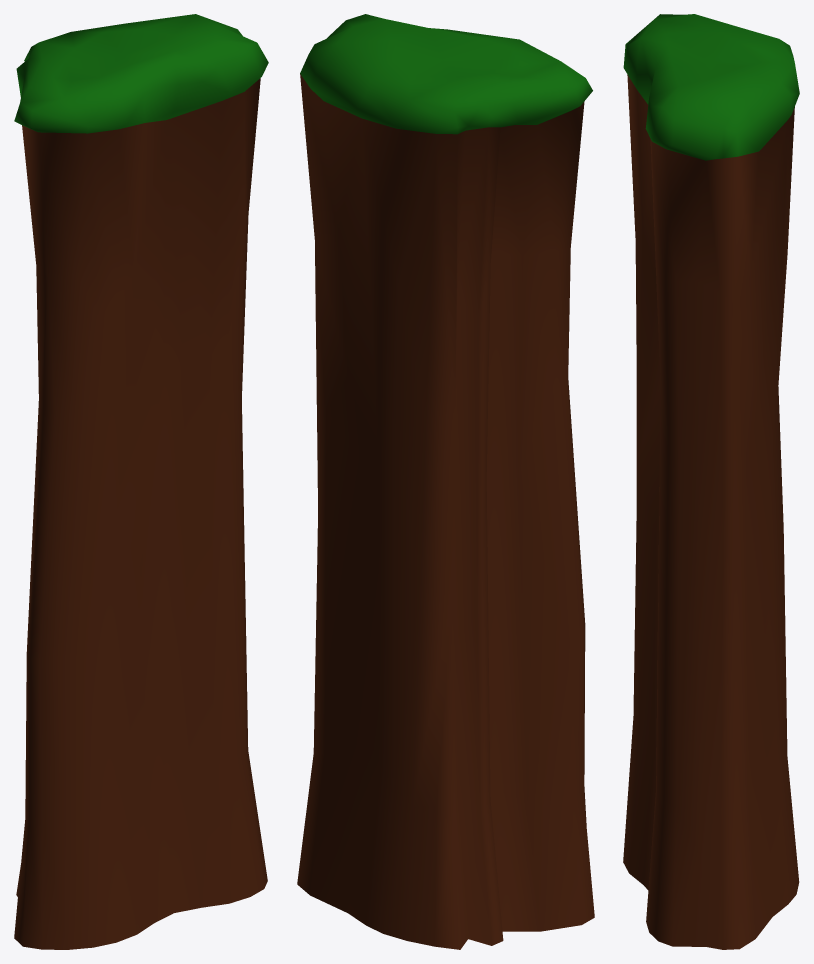
Rendered from land_04.fbx.
The picture shows the model from 3 angles, left to right: view 1: azimuth 30°, elevation 25°; view 2: azimuth 150°, elevation 25°; view 3: azimuth 270°, elevation 25°; orthographic projection. The views are drawn at different scales.
Parts seen in each view (by area): view 1: land_04; view 2: land_04; view 3: land_04.
Part boxes in pixels (x1,y1,x2,y2): land_04: (14, 14, 268, 949); land_04: (297, 14, 594, 949); land_04: (623, 14, 799, 949).
Bounding box in the file's own units: 1.12 × 0.6809 × 3.55.
